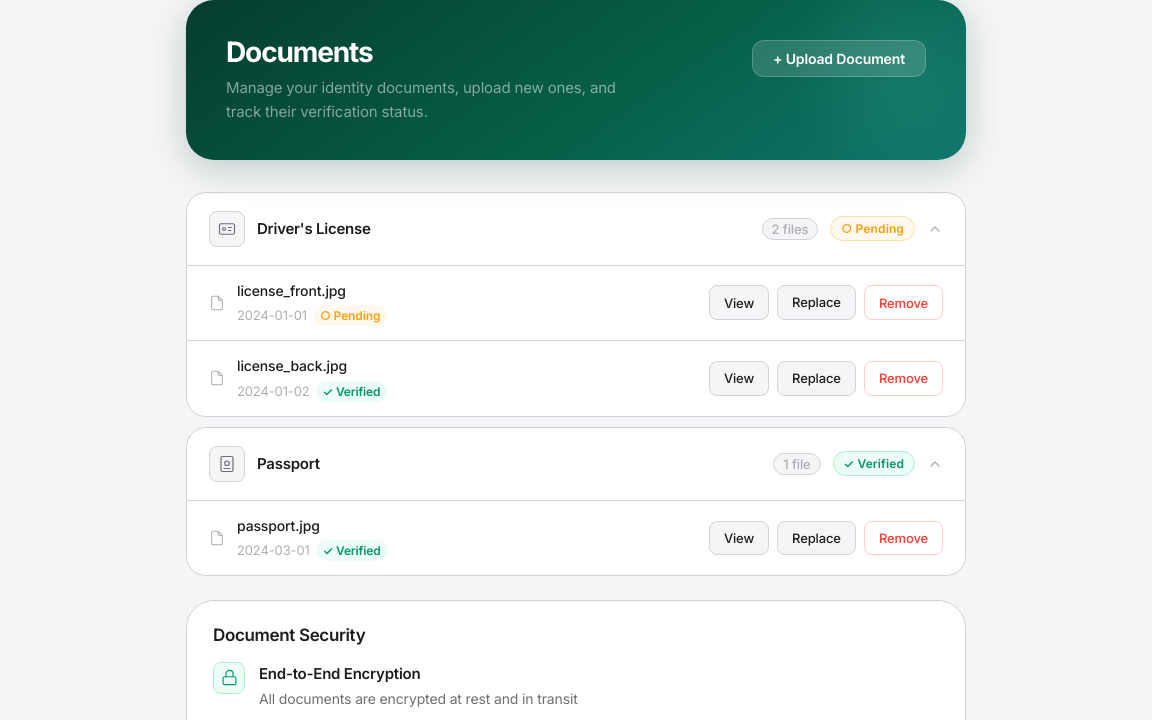
Test case: Documents Page › collapses group when header is clicked
This screenshot has width=1152, height=720.
Expected: the text "license_front.jpg" is shown, left=237, top=282, right=346, bottom=299
Click the button "Driver's License 2 files ○ Pending" at {"x": 227, "y": 229}, box left=187, top=193, right=965, bottom=265
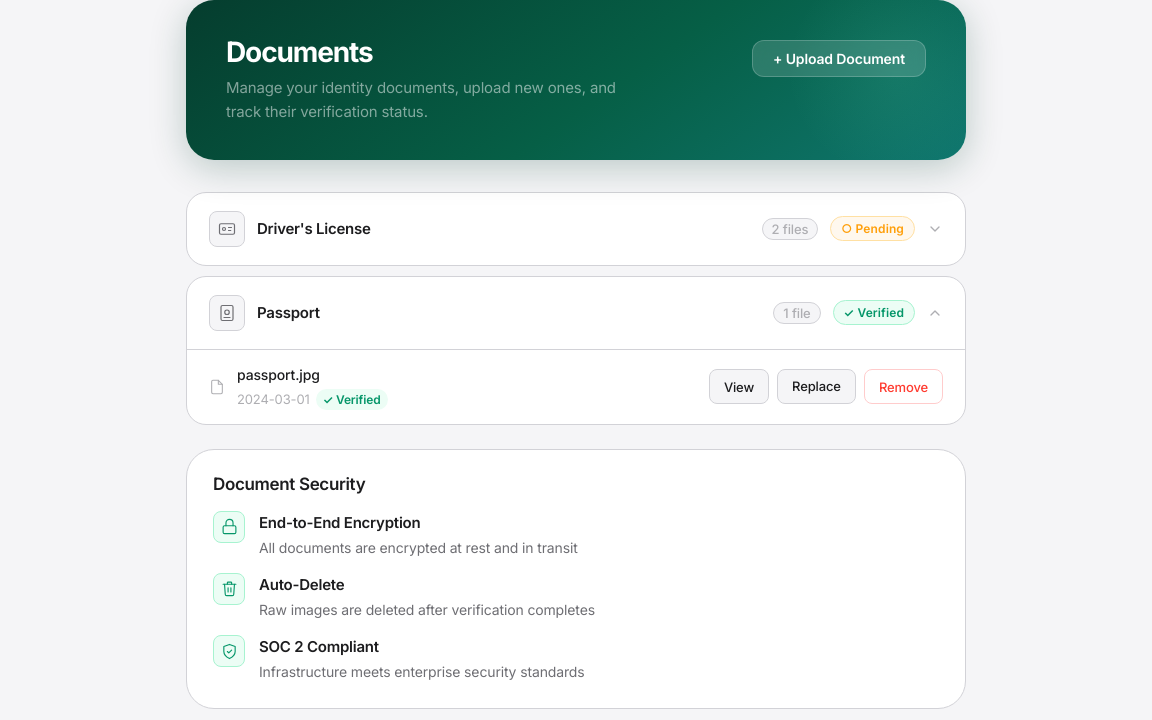
Expected: the text "license_front.jpg" is gone
